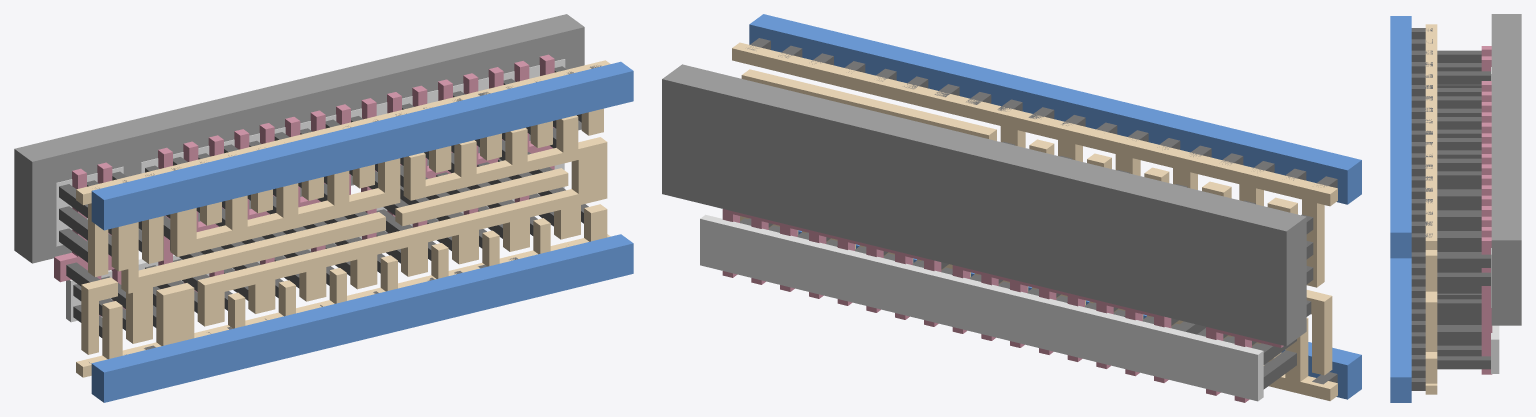
File: sky130_fd_sc_hd__lpflow_isobufsrc_8.gds.gltf
3 views of the same model, side by side, from view 1: azimuth 30°, elevation 25°; view 2: azimuth 150°, elevation 25°; view 3: azimuth 270°, elevation 25° (orthographic). The views are drawn at different scales.
Visible parts, largest first — view 1: sky130_fd_sc_hd__lpflow_isobufsrc_8_li1, sky130_fd_sc_hd__lpflow_isobufsrc_8_met1, sky130_fd_sc_hd__lpflow_isobufsrc_8_nwell, sky130_fd_sc_hd__lpflow_isobufsrc_8_licon, sky130_fd_sc_hd__lpflow_isobufsrc_8_poly, sky130_fd_sc_hd__lpflow_isobufsrc_8_diff; view 2: sky130_fd_sc_hd__lpflow_isobufsrc_8_nwell, sky130_fd_sc_hd__lpflow_isobufsrc_8_diff, sky130_fd_sc_hd__lpflow_isobufsrc_8_li1, sky130_fd_sc_hd__lpflow_isobufsrc_8_met1, sky130_fd_sc_hd__lpflow_isobufsrc_8_poly, sky130_fd_sc_hd__lpflow_isobufsrc_8_mcon, sky130_fd_sc_hd__lpflow_isobufsrc_8_licon; view 3: sky130_fd_sc_hd__lpflow_isobufsrc_8_licon, sky130_fd_sc_hd__lpflow_isobufsrc_8_nwell, sky130_fd_sc_hd__lpflow_isobufsrc_8_met1, sky130_fd_sc_hd__lpflow_isobufsrc_8_mcon, sky130_fd_sc_hd__lpflow_isobufsrc_8_li1, sky130_fd_sc_hd__lpflow_isobufsrc_8_poly, sky130_fd_sc_hd__lpflow_isobufsrc_8_diff.
Part boxes in pixels (bbox=[...]): sky130_fd_sc_hd__lpflow_isobufsrc_8_li1: bbox=[76, 60, 610, 377]; sky130_fd_sc_hd__lpflow_isobufsrc_8_met1: bbox=[91, 61, 633, 402]; sky130_fd_sc_hd__lpflow_isobufsrc_8_nwell: bbox=[14, 14, 584, 263]; sky130_fd_sc_hd__lpflow_isobufsrc_8_licon: bbox=[59, 66, 588, 337]; sky130_fd_sc_hd__lpflow_isobufsrc_8_poly: bbox=[54, 54, 554, 316]; sky130_fd_sc_hd__lpflow_isobufsrc_8_diff: bbox=[56, 59, 565, 322]; sky130_fd_sc_hd__lpflow_isobufsrc_8_nwell: bbox=[662, 64, 1306, 346]; sky130_fd_sc_hd__lpflow_isobufsrc_8_diff: bbox=[700, 214, 1263, 401]; sky130_fd_sc_hd__lpflow_isobufsrc_8_li1: bbox=[732, 42, 1337, 400]; sky130_fd_sc_hd__lpflow_isobufsrc_8_met1: bbox=[749, 14, 1361, 399]; sky130_fd_sc_hd__lpflow_isobufsrc_8_poly: bbox=[722, 209, 1283, 402]; sky130_fd_sc_hd__lpflow_isobufsrc_8_mcon: bbox=[747, 38, 1337, 384]; sky130_fd_sc_hd__lpflow_isobufsrc_8_licon: bbox=[740, 141, 1313, 389]; sky130_fd_sc_hd__lpflow_isobufsrc_8_licon: bbox=[1437, 50, 1490, 369]; sky130_fd_sc_hd__lpflow_isobufsrc_8_nwell: bbox=[1491, 14, 1521, 325]; sky130_fd_sc_hd__lpflow_isobufsrc_8_met1: bbox=[1390, 16, 1411, 402]; sky130_fd_sc_hd__lpflow_isobufsrc_8_mcon: bbox=[1411, 28, 1432, 390]; sky130_fd_sc_hd__lpflow_isobufsrc_8_li1: bbox=[1425, 24, 1437, 394]; sky130_fd_sc_hd__lpflow_isobufsrc_8_poly: bbox=[1481, 46, 1492, 374]; sky130_fd_sc_hd__lpflow_isobufsrc_8_diff: bbox=[1491, 67, 1499, 373].
Size of the model in its own units: 9.12 by 3.2 by 2.24.
